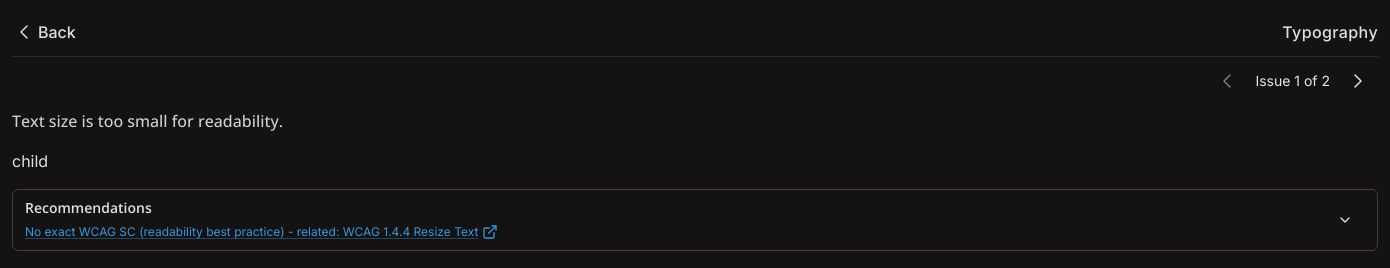
it: IssuesWrapper › paginates between issues within the current type's bounds
The image size is (1390, 268).
Expected: the text "Issue 1 of 2" is shown, 1255,71 -> 1330,91
Expected: the button named "Goto previous issue" is disabled, 1207,61 -> 1247,101
Click the button named "Goto next issue": coordinates (1358, 81) 1338,61 -> 1378,101
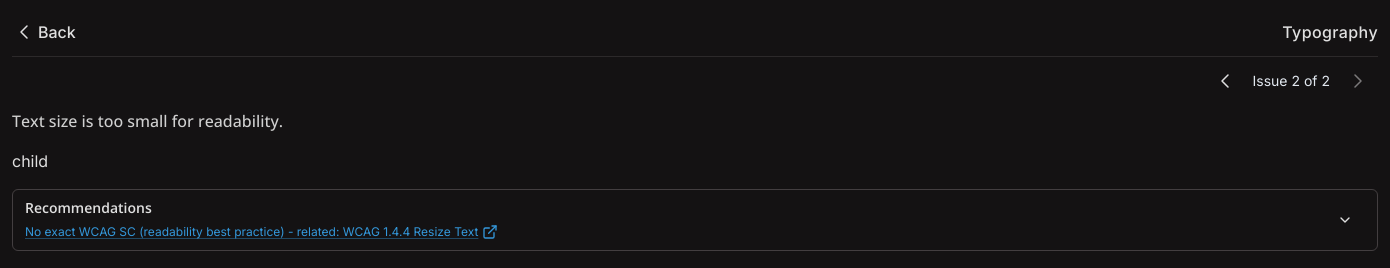
Now the text "Issue 2 of 2" is shown, box 1252,71 -> 1330,91
Now the button named "Goto next issue" is disabled, box 1338,61 -> 1378,101
